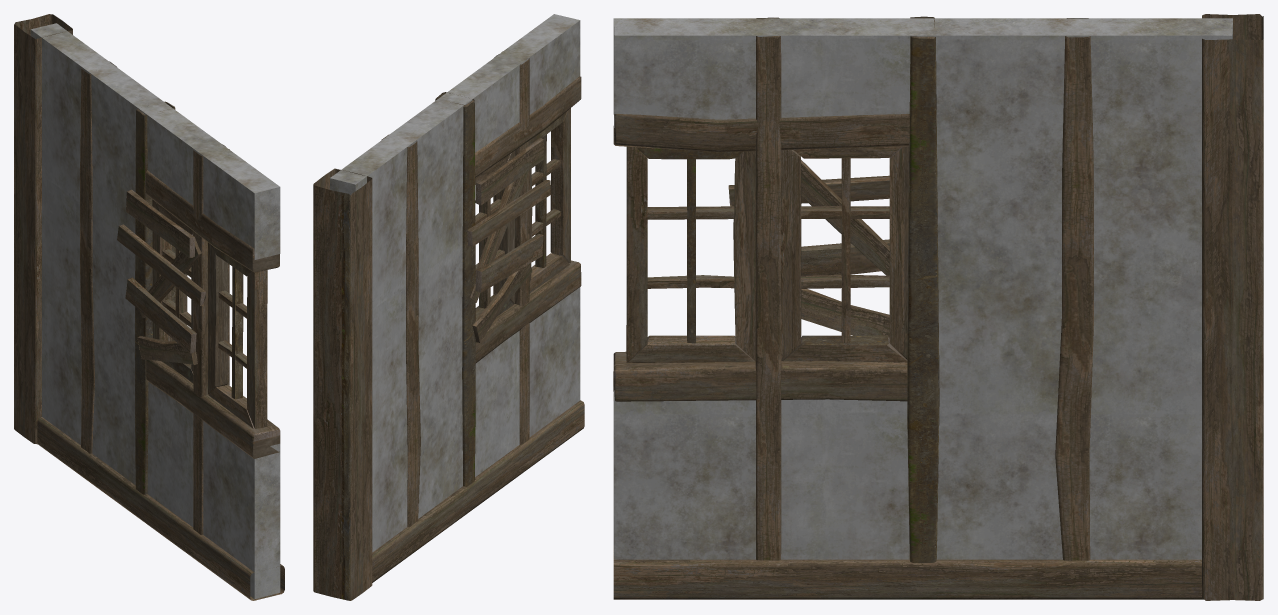
The model's file is SM_Wall40.fbx.
3 views of the same model, side by side, from view 1: azimuth 30°, elevation 25°; view 2: azimuth 150°, elevation 25°; view 3: azimuth 270°, elevation 25° (orthographic). The views are drawn at different scales.
Parts seen in each view (by area): view 1: SM_Wall40_LOD0; view 2: SM_Wall40_LOD0; view 3: SM_Wall40_LOD0.
Boxes of the visible parts, x1=… form: SM_Wall40_LOD0: x1=14, y1=14, x2=284, y2=600; SM_Wall40_LOD0: x1=313, y1=14, x2=584, y2=600; SM_Wall40_LOD0: x1=613, y1=14, x2=1263, y2=600.
Bounding box in the file's own units: 36.68 × 315 × 301.
